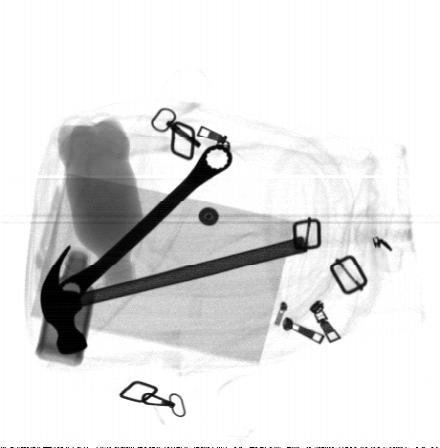Hammer: (39, 236, 309, 356)
Wrench: (58, 143, 232, 303)
